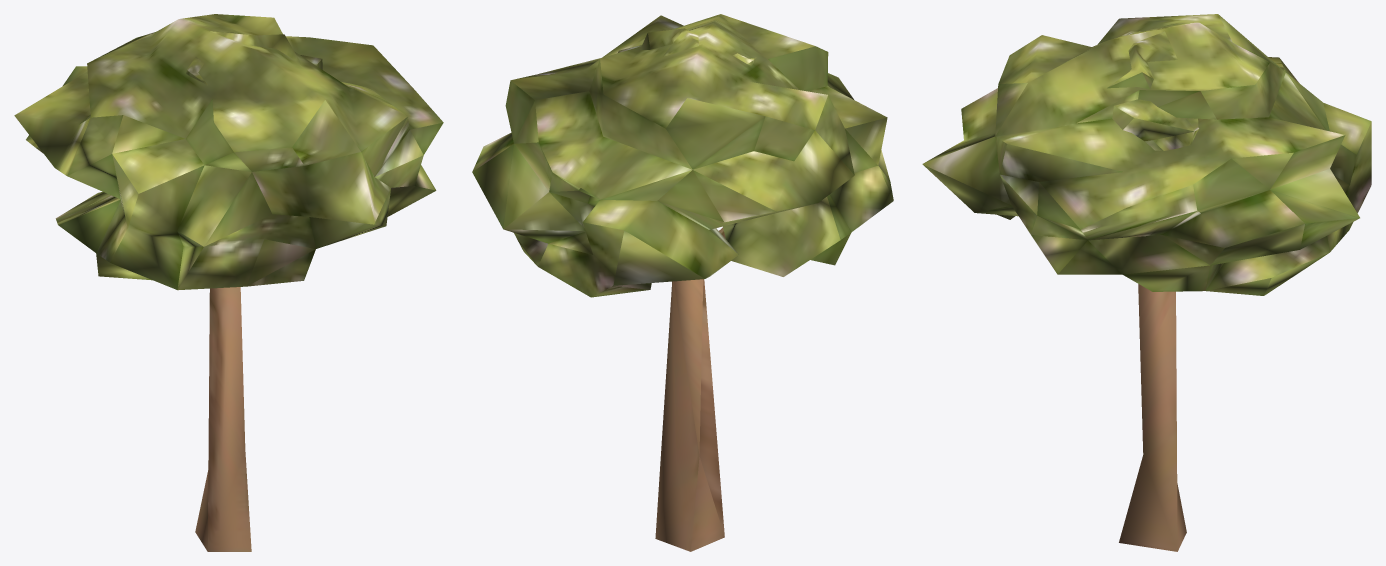
File: tree_round_b_far.glb
3 renders of one model, left to right at view 1: azimuth 30°, elevation 25°; view 2: azimuth 150°, elevation 25°; view 3: azimuth 270°, elevation 25°, orthographic. The views are drawn at different scales.
Parts seen in each view (by area): view 1: body; view 2: body; view 3: body.
Boxes of the visible parts, bbox=[...] form: body: bbox=[14, 14, 443, 551]; body: bbox=[472, 14, 893, 551]; body: bbox=[922, 14, 1371, 551].
Bounding box in the file's own units: 3.06 × 4.36 × 3.52.
2 materials, 2 textured.
